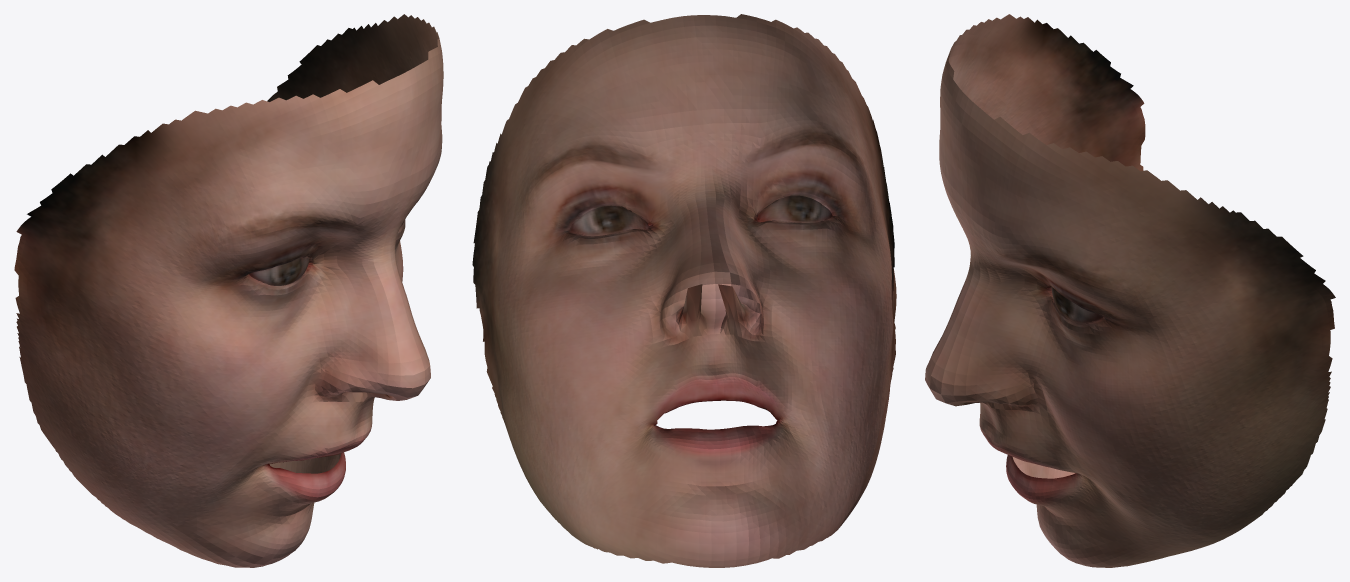
The model's file is frame_930_mesh.obj.
3 views of the same model, side by side, from view 1: azimuth 30°, elevation 25°; view 2: azimuth 150°, elevation 25°; view 3: azimuth 270°, elevation 25° (orthographic). The views are drawn at different scales.
Size of the model in its own units: 1.35 by 1.68 by 1.23.
